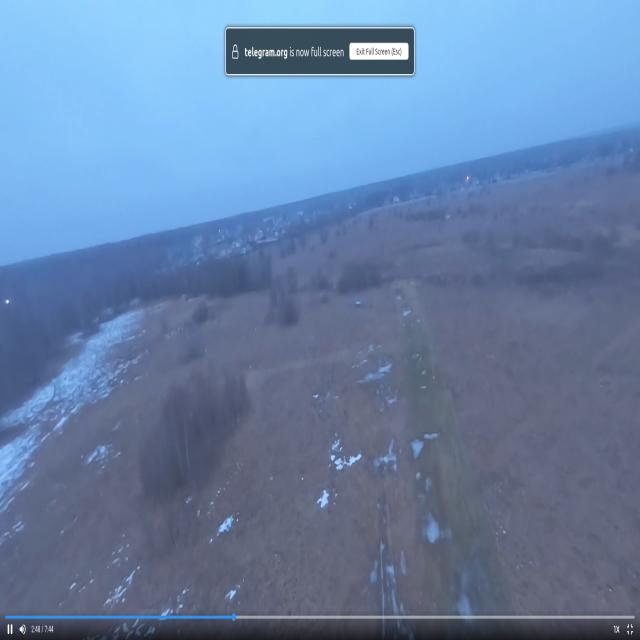planedrone: (348, 293, 372, 310)
